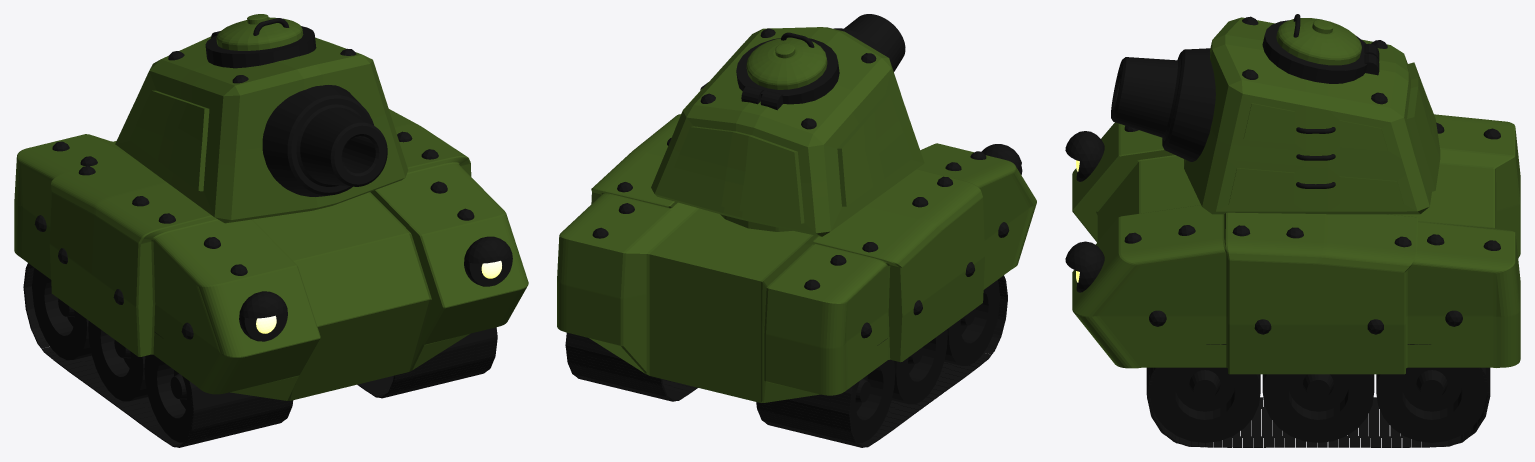
Rendered from tank_1_green.glb.
The picture shows the model from 3 angles, left to right: view 1: azimuth 30°, elevation 25°; view 2: azimuth 150°, elevation 25°; view 3: azimuth 270°, elevation 25°; orthographic projection. The views are drawn at different scales.
Parts seen in each view (by area): view 1: Base.003, Turret.003, Tracks.005, Canon.003, Wheels.003, Entrance.003, Lights.003, Bolts.004; view 2: Base.003, Turret.003, Tracks.005, Wheels.003, Entrance.003, Bolts.004, Canon.003, Lights.003, Bolts.003; view 3: Base.003, Turret.003, Wheels.003, Canon.003, Entrance.003, Tracks.005, Lights.003, Bolts.004, Ladder.003, Bolts.003.
Boxes of the visible parts, left/top/right/bottom form: Base.003: left=14, top=109, right=528, bottom=400; Turret.003: left=115, top=36, right=408, bottom=223; Tracks.005: left=23, top=263, right=497, bottom=447; Canon.003: left=262, top=85, right=387, bottom=196; Wheels.003: left=32, top=268, right=192, bottom=442; Entrance.003: left=205, top=14, right=316, bottom=68; Lights.003: left=239, top=236, right=512, bottom=341; Bolts.004: left=34, top=131, right=474, bottom=339; Base.003: left=557, top=114, right=1036, bottom=402; Turret.003: left=651, top=27, right=924, bottom=236; Tracks.005: left=565, top=275, right=1007, bottom=447; Wheels.003: left=850, top=280, right=1000, bottom=442; Entrance.003: left=736, top=32, right=839, bottom=110; Bolts.004: left=592, top=138, right=1009, bottom=338; Canon.003: left=833, top=14, right=905, bottom=71; Lights.003: left=981, top=144, right=1022, bottom=174; Bolts.003: left=700, top=28, right=876, bottom=129; Base.003: left=1072, top=114, right=1520, bottom=374; Turret.003: left=1184, top=17, right=1440, bottom=214; Wheels.003: left=1149, top=367, right=1487, bottom=442; Canon.003: left=1111, top=48, right=1215, bottom=161; Entrance.003: left=1262, top=14, right=1379, bottom=83; Tracks.005: left=1146, top=344, right=1490, bottom=447; Lights.003: left=1065, top=131, right=1104, bottom=292; Bolts.004: left=1124, top=122, right=1500, bottom=334; Ladder.003: left=1296, top=127, right=1335, bottom=188; Bolts.003: left=1242, top=16, right=1387, bottom=104.
Size of the model in its own units: 1.55 by 1.5 by 1.75.
